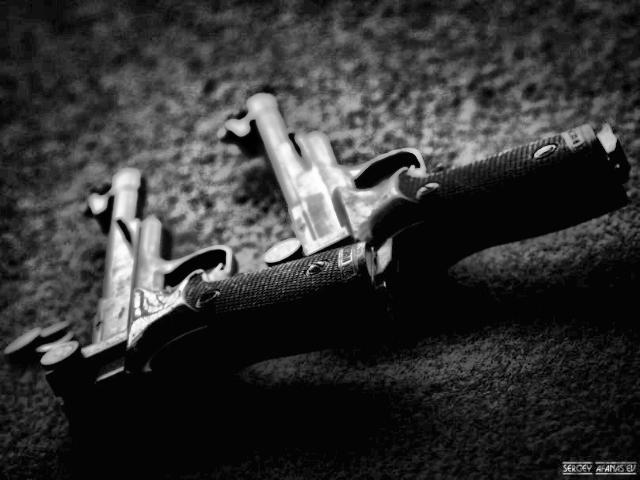pistol: (230, 80, 622, 304), (35, 168, 388, 386)
